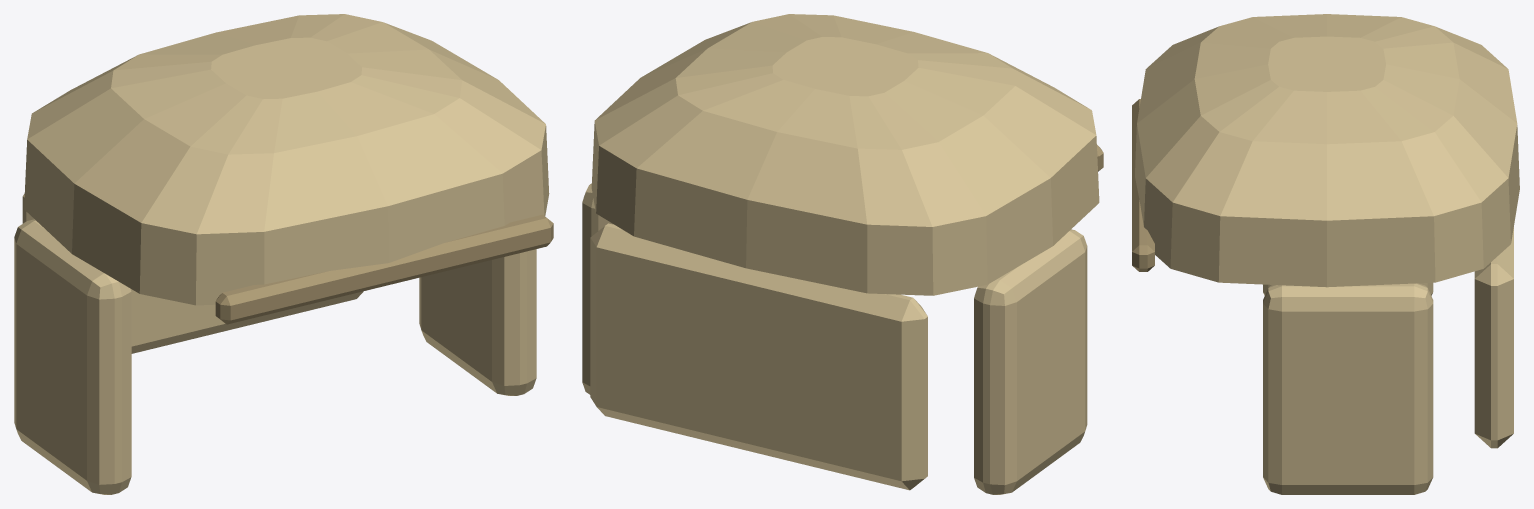
The model's file is SM_NPC_Headgear_01_Hood.glb.
3 views of the same model, side by side, from view 1: azimuth 30°, elevation 25°; view 2: azimuth 150°, elevation 25°; view 3: azimuth 270°, elevation 25° (orthographic). The views are drawn at different scales.
Visible parts, largest first — view 1: SM_NPC_Headgear_01_Hood; view 2: SM_NPC_Headgear_01_Hood; view 3: SM_NPC_Headgear_01_Hood.
Part boxes in pixels (x1,y1,x2,y2): SM_NPC_Headgear_01_Hood: (14,14,553,494); SM_NPC_Headgear_01_Hood: (582,14,1103,494); SM_NPC_Headgear_01_Hood: (1132,14,1519,494).
Bounding box in the file's own units: 0.738 × 0.565 × 0.5915.
